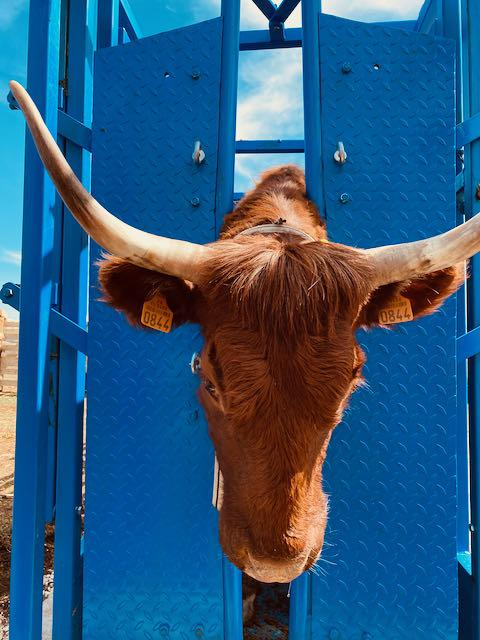muzzles: (223, 539, 329, 587)
